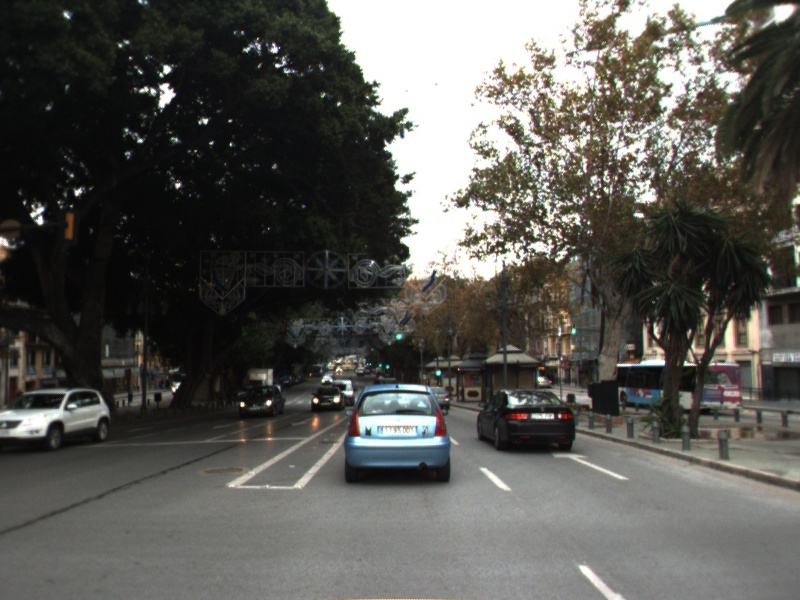STRAIGHT: (550, 449, 631, 485)
